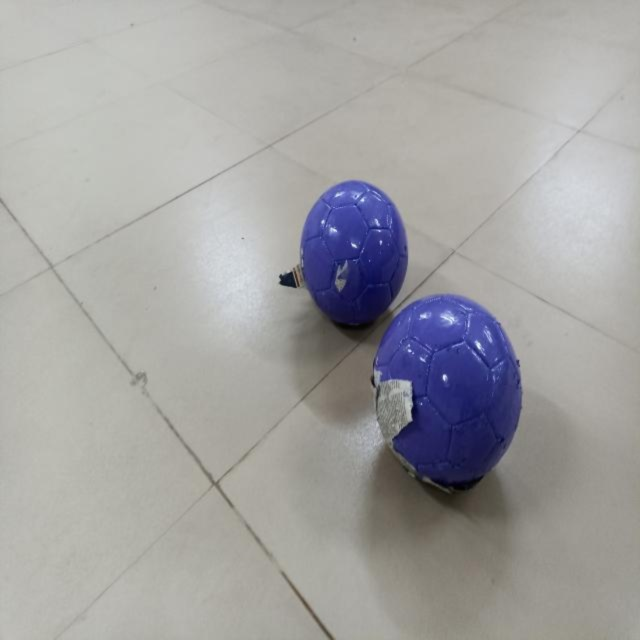purple_ball: (364, 295, 532, 509), (292, 172, 415, 332)
